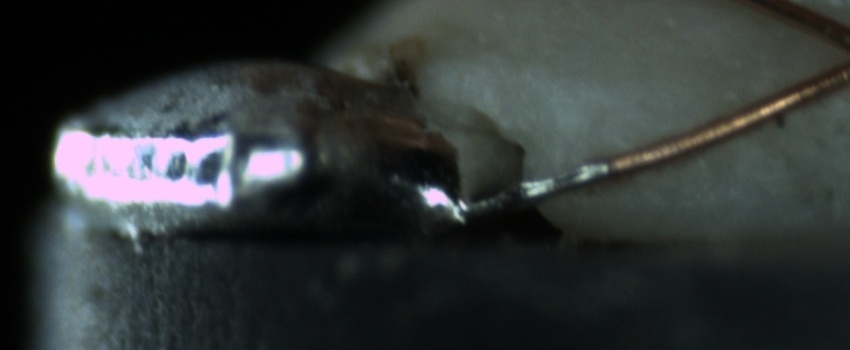TS: (450, 158, 610, 221)
TTCW: (444, 135, 658, 221)
